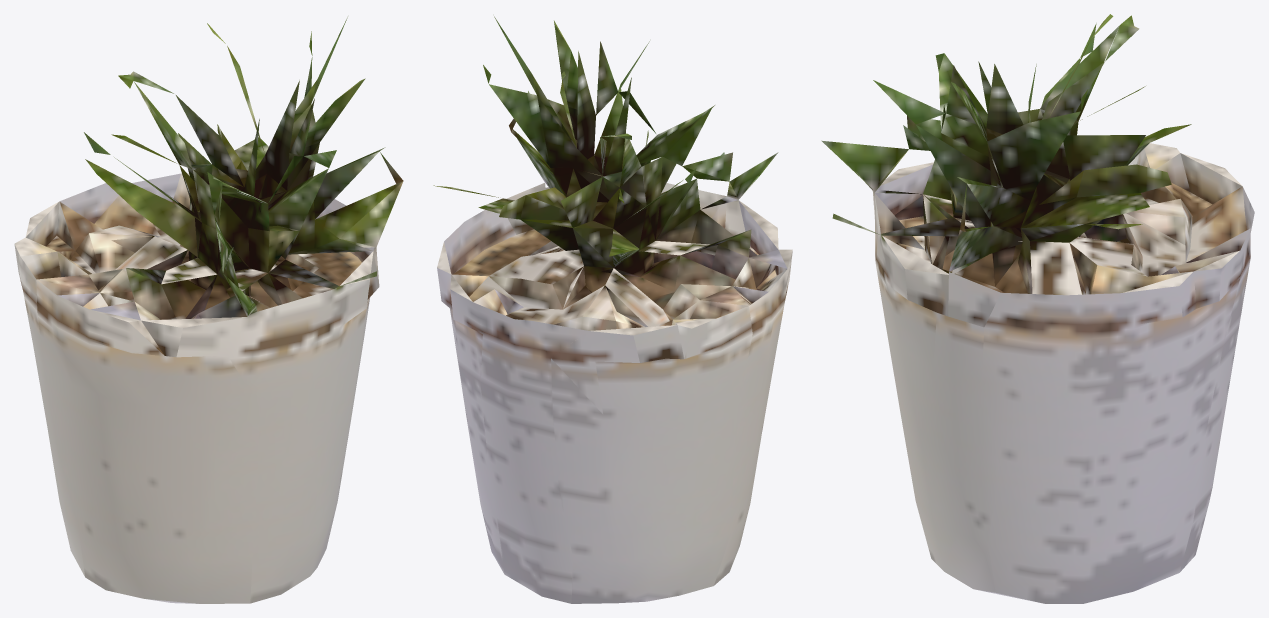
The model's file is potted_plant_04.glb.
3 views of the same model, side by side, from view 1: azimuth 30°, elevation 25°; view 2: azimuth 150°, elevation 25°; view 3: azimuth 270°, elevation 25° (orthographic). The views are drawn at different scales.
Visible parts, largest first — view 1: mesh; view 2: mesh; view 3: mesh.
Part boxes in pixels (left/top/right/bottom): mesh: left=14, top=17, right=403, bottom=603; mesh: left=433, top=16, right=792, bottom=603; mesh: left=821, top=14, right=1254, bottom=603.
Size of the model in its own units: 0.1672 by 0.2676 by 0.1881.
Materials: 1 (1 with a texture image).
